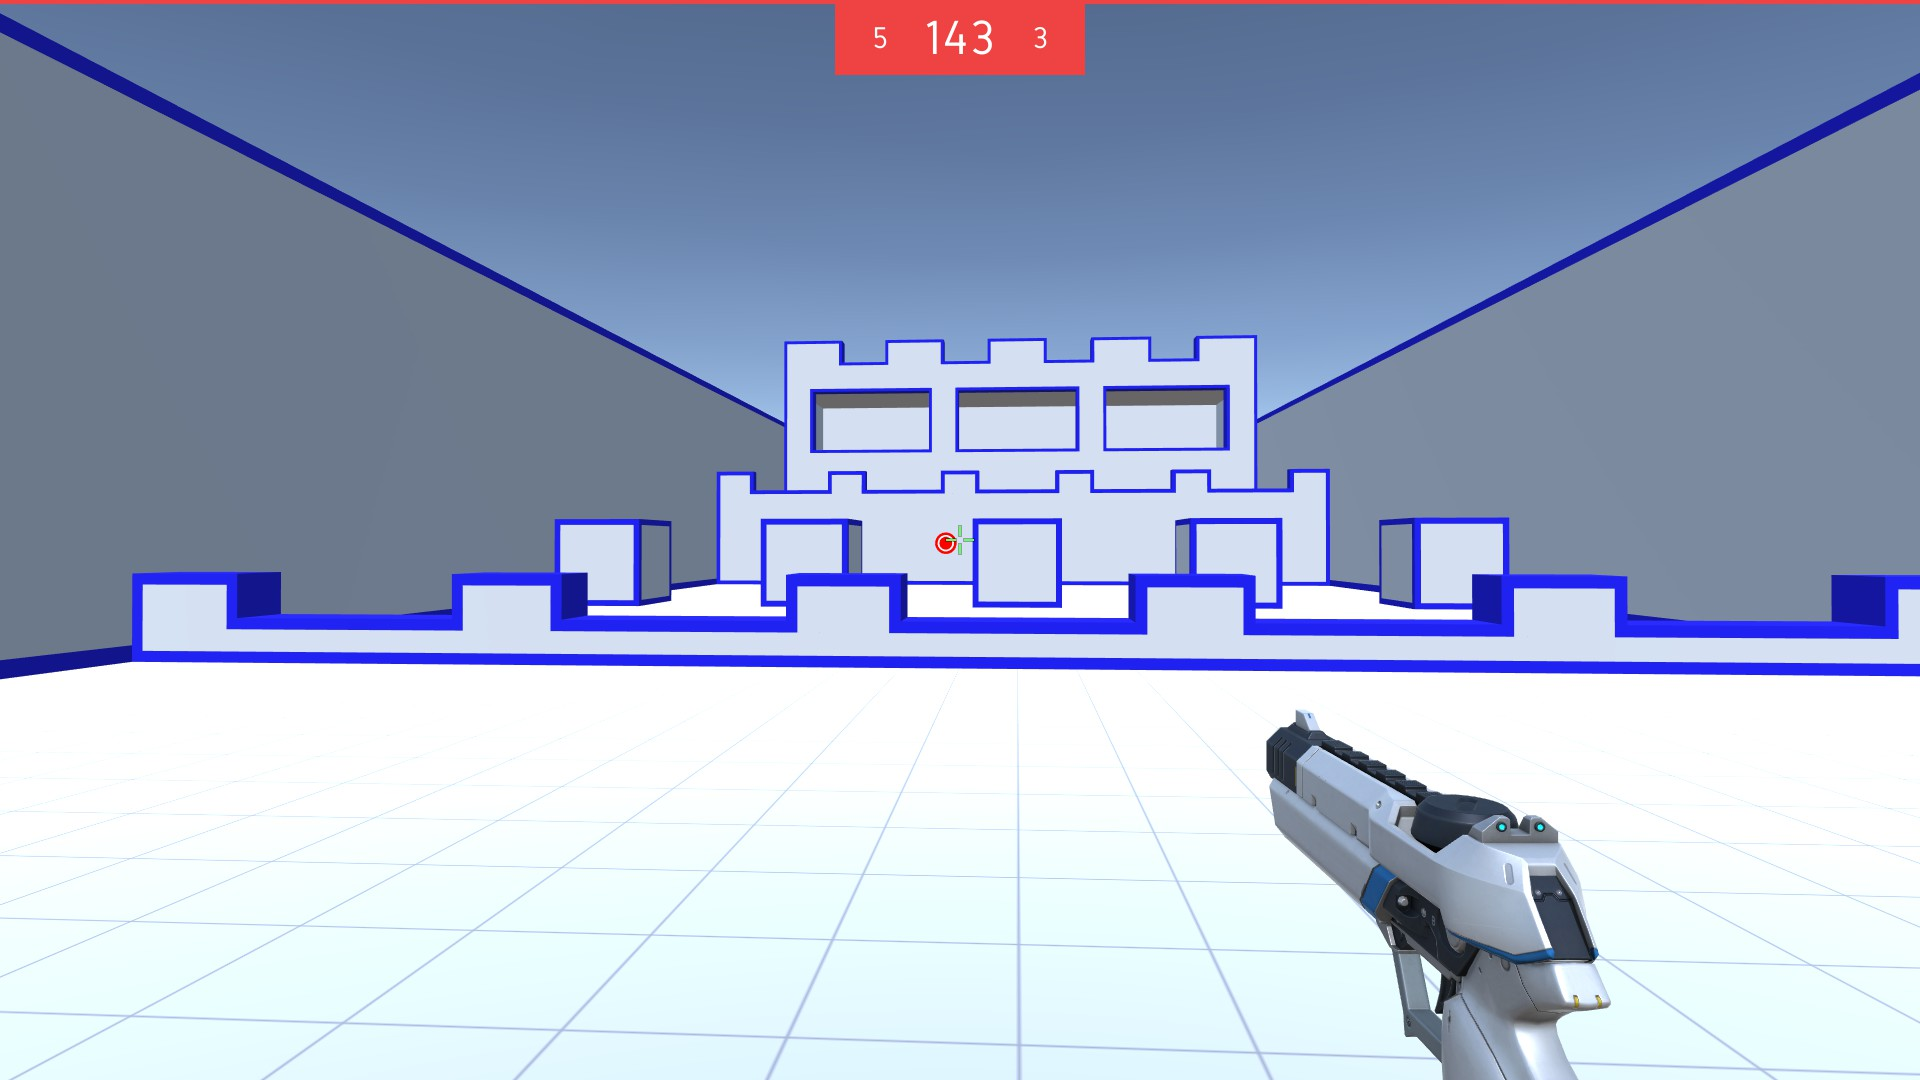target: (934, 531, 959, 555)
